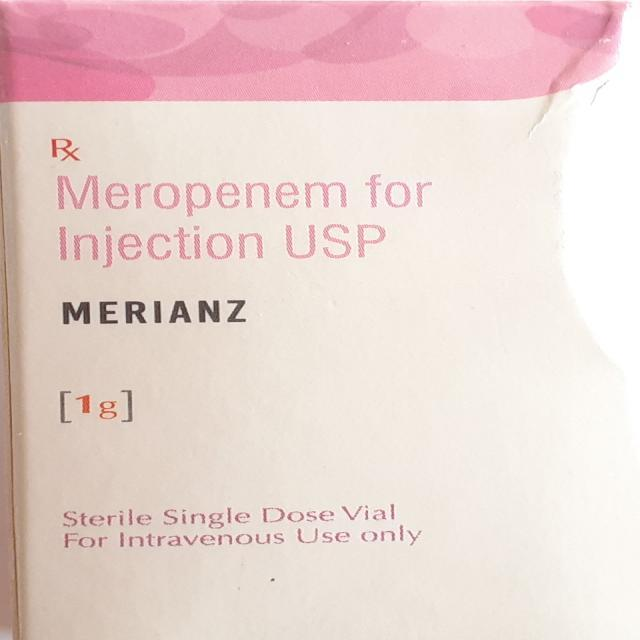drug-name: (60, 292, 249, 334)
